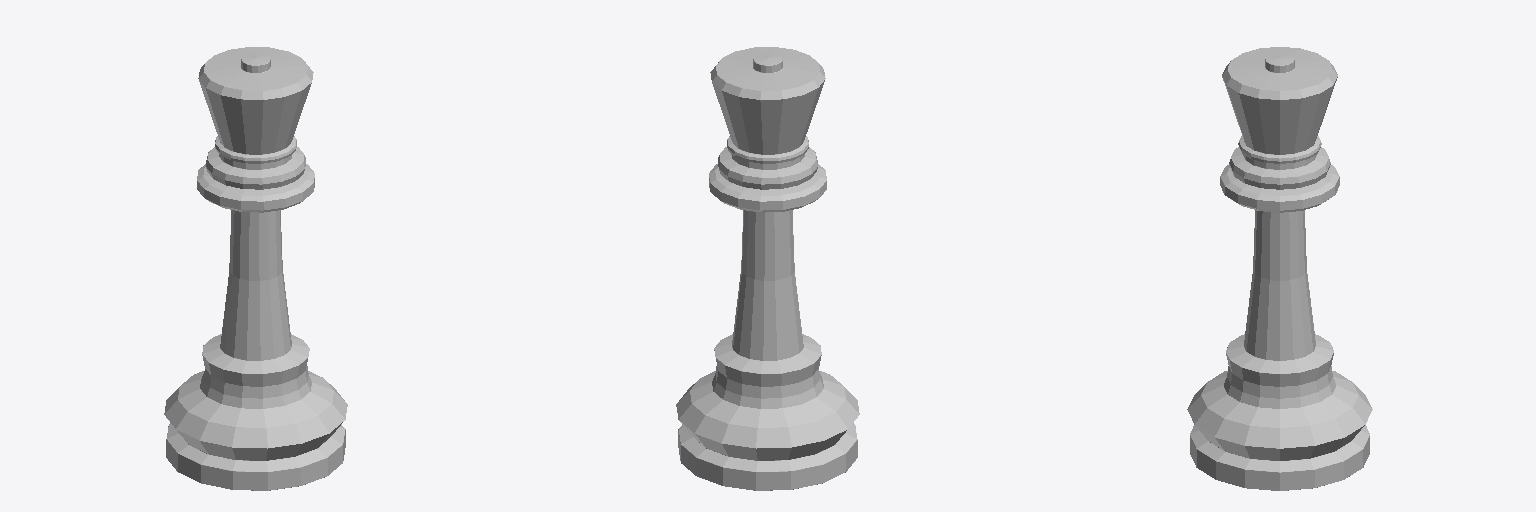
File: chess_king.obj
3 views of the same model, side by side, from view 1: azimuth 30°, elevation 25°; view 2: azimuth 150°, elevation 25°; view 3: azimuth 270°, elevation 25° (orthographic).
Parts seen in each view (by area): view 1: Mesh.026_Sphere40; view 2: Mesh.026_Sphere40; view 3: Mesh.026_Sphere40.
Boxes of the visible parts, <box> form: Mesh.026_Sphere40: <box>164,47,347,490</box>; Mesh.026_Sphere40: <box>676,47,859,490</box>; Mesh.026_Sphere40: <box>1187,47,1372,490</box>.
Size of the model in its own units: 7.67 by 18.06 by 7.68.